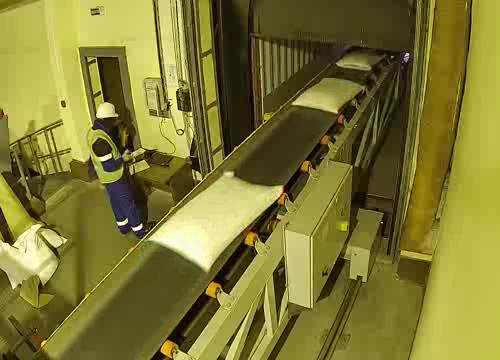bag: (140, 163, 289, 280), (287, 75, 372, 116), (333, 46, 390, 71)
